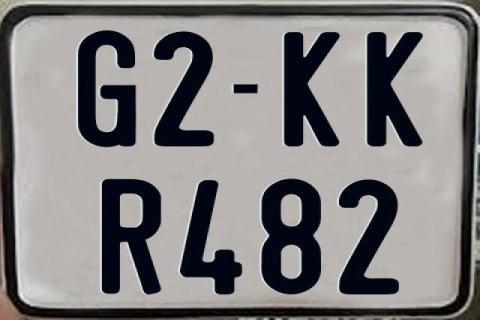0: (180, 180, 243, 297), (152, 30, 212, 148), (336, 180, 397, 296), (260, 176, 320, 293)
G: (77, 28, 138, 146)
K: (364, 32, 426, 150), (284, 31, 346, 145)
R: (102, 177, 165, 295)
